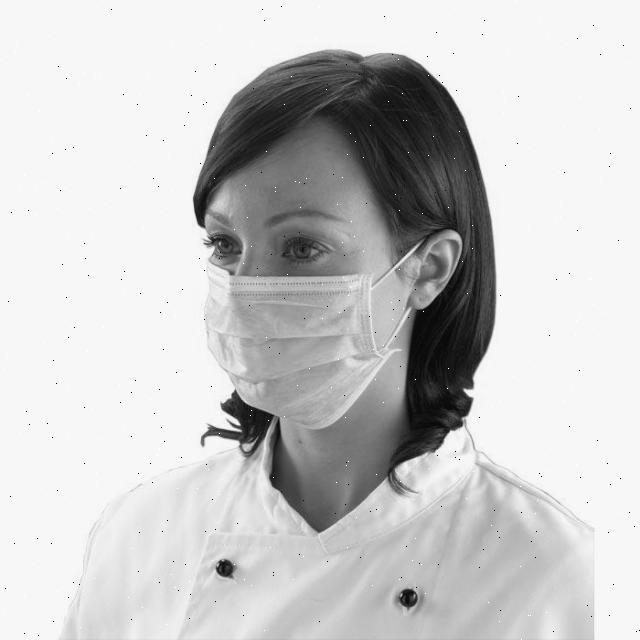fake: (195, 273, 401, 459)
real: (195, 120, 405, 434)
